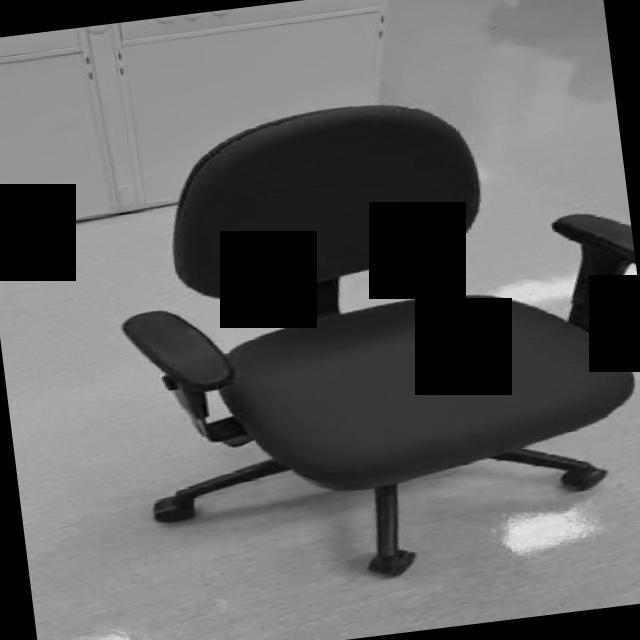chair: (96, 72, 640, 604)
